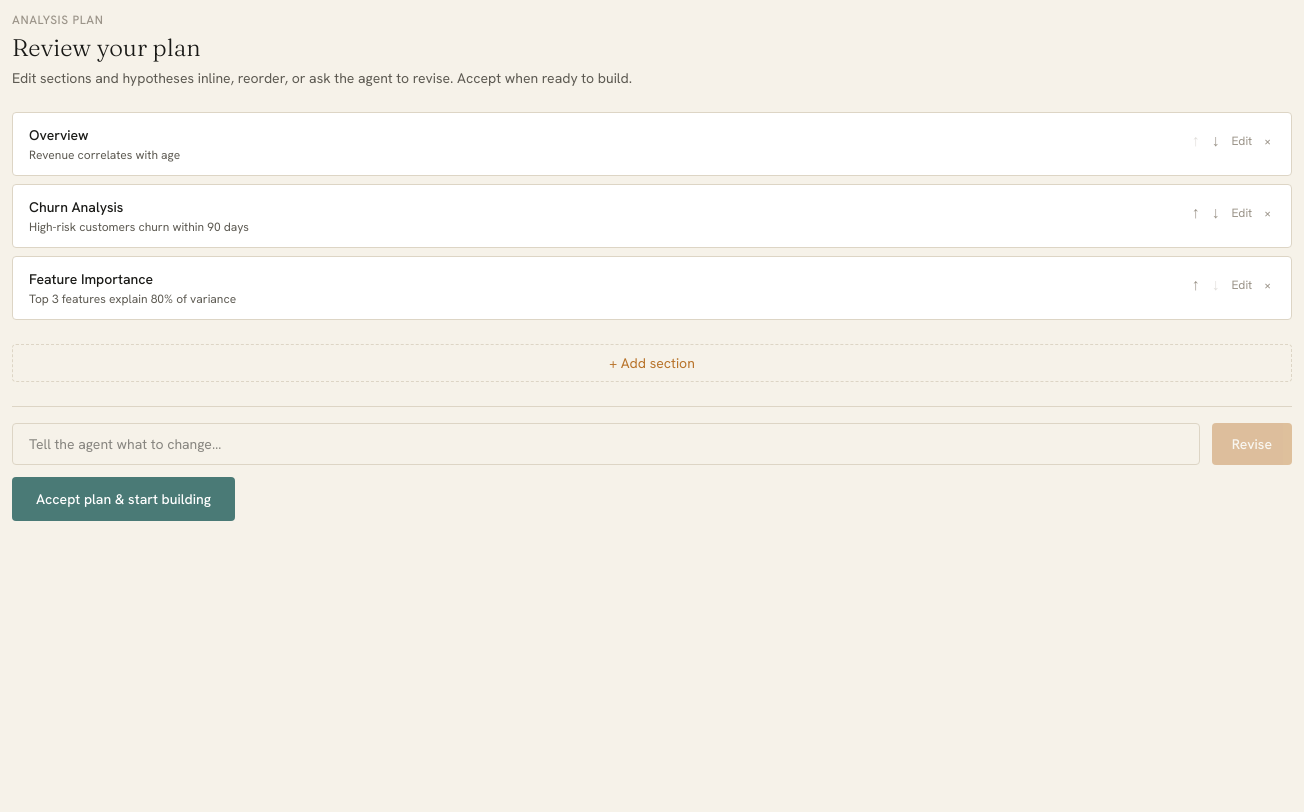
Test: PlanView › clicking edit button enters edit mode — shows save and cancel buttons
The width and height of the screenshot is (1304, 812).
Step 1. Click the button with test id "plan-edit-sec_01" → click(1242, 141), box [1227,129,1256,153]
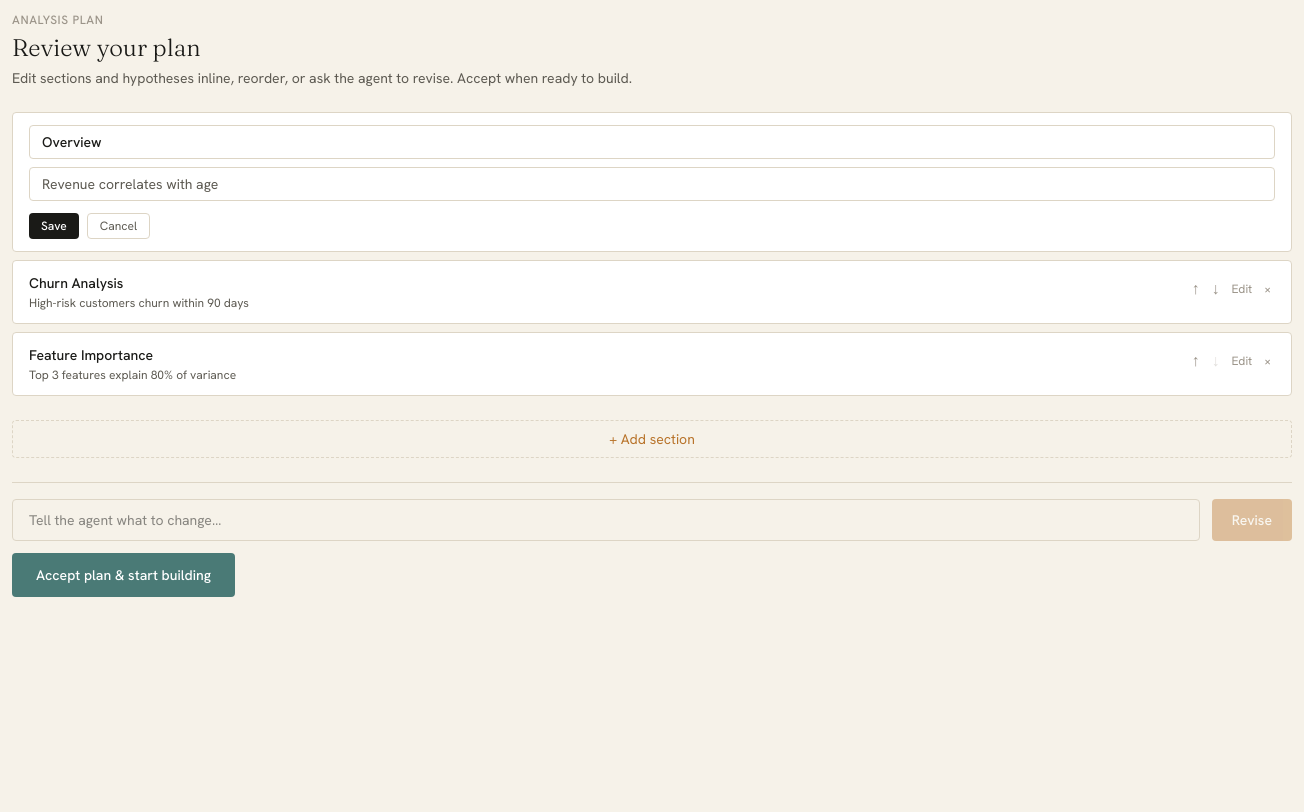
Expected: the button with test id "plan-save-edit-sec_01" is shown, [29,213,79,239]
Expected: the button with test id "plan-cancel-edit-sec_01" is shown, [87,213,150,239]
